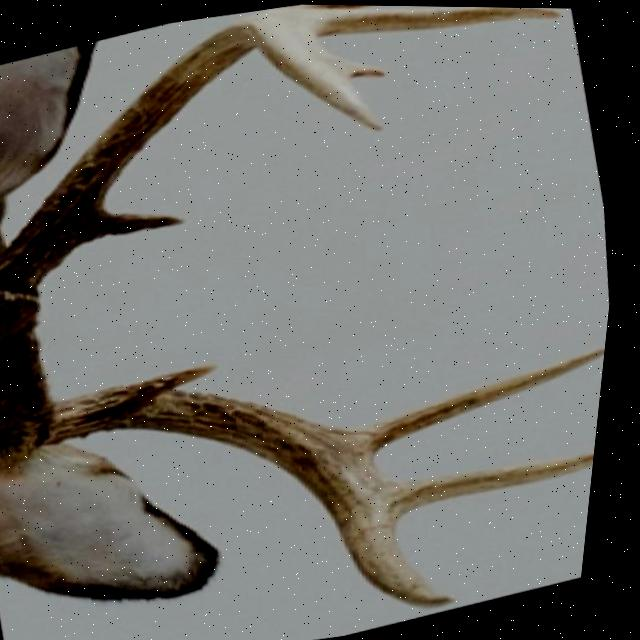E1: (343, 58, 391, 76)
L-F: (52, 386, 469, 606)
L-G1: (117, 360, 227, 397)
L-G2: (364, 344, 613, 451)
L-G3: (398, 449, 604, 517)
R-F: (0, 8, 386, 300)
R-G1: (85, 207, 192, 244)
R-G3: (303, 5, 564, 36)
